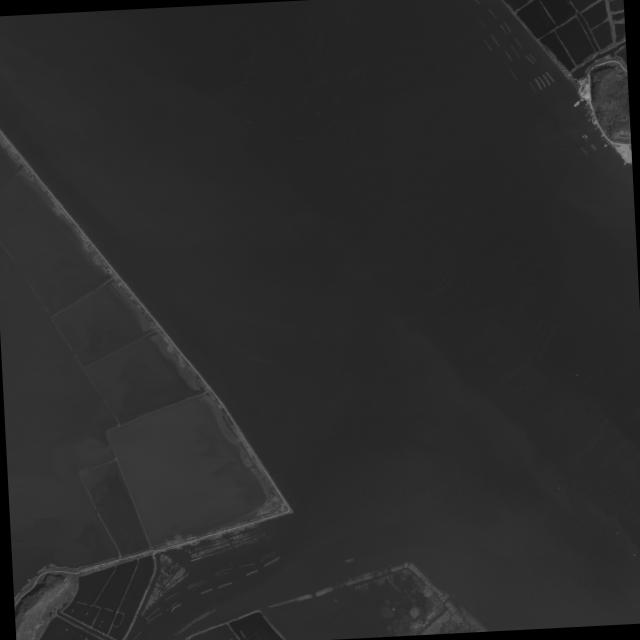ship: (584, 135, 588, 141), (592, 144, 596, 148), (588, 118, 591, 122), (582, 135, 585, 139), (585, 135, 588, 138)
